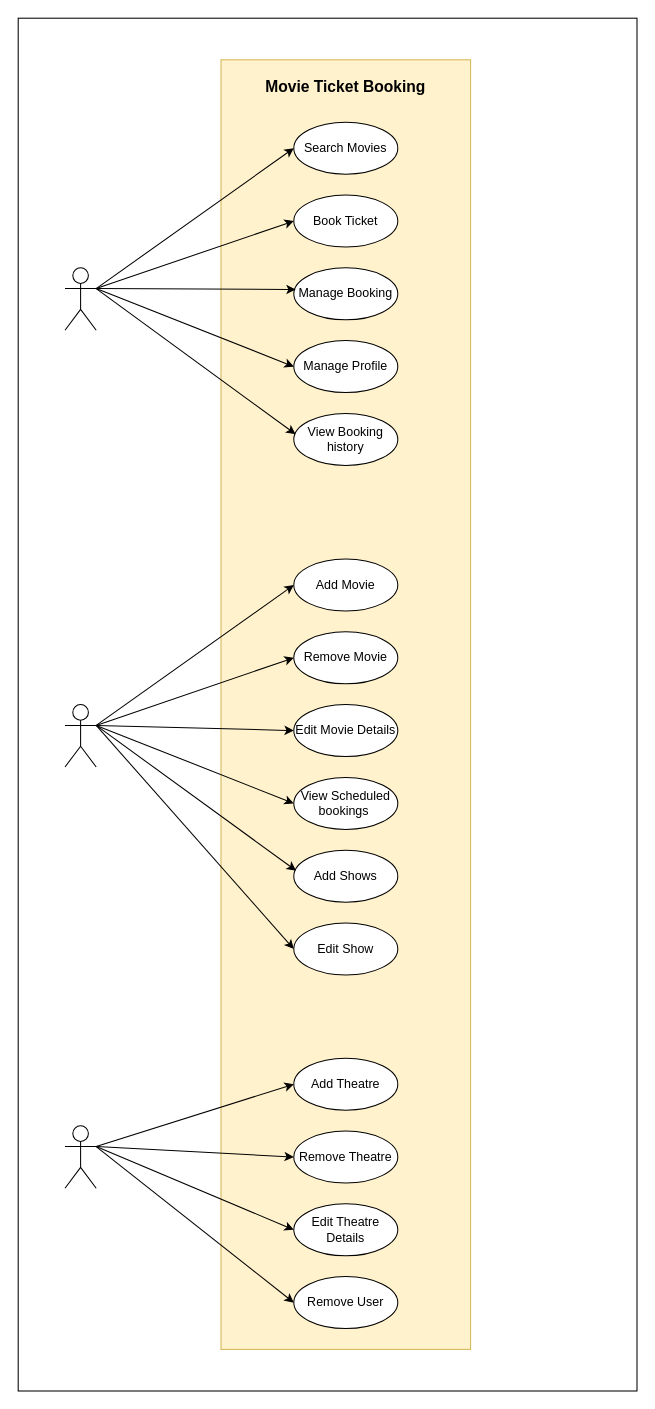
The diagram is 655 pixels wide and 1409 high, and some of its shapes have lost their labels. The shapes that lost their labels are listed below. From the top down, each one's centre as x and y in pixels, then its label:
At (80,298): "Customer".
At (80,735): "Theatre Administrator".
At (80,1156): "System Administrator".
